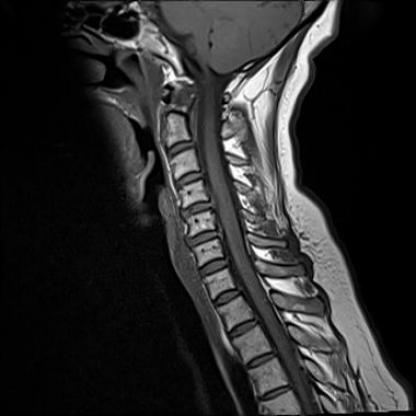Osteophytesrotation: (178, 195, 215, 219), (184, 229, 224, 247)
